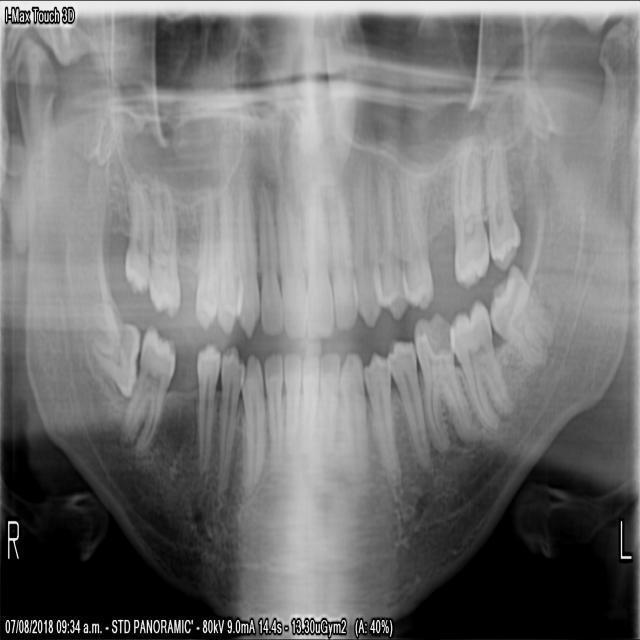LCD: (337, 342, 372, 483)
LCU: (347, 134, 383, 332)
LID: (316, 345, 339, 461), (298, 342, 318, 454)
LIU: (298, 162, 336, 343), (325, 164, 360, 337)
LMD: (408, 299, 478, 463), (444, 290, 515, 434), (485, 253, 559, 370)
LMU: (446, 123, 492, 299), (479, 130, 523, 272)
LPMD: (384, 330, 431, 476), (359, 345, 403, 495)
LPMU: (367, 152, 410, 325), (391, 143, 434, 315)
RCD: (237, 347, 267, 505)
RCU: (232, 156, 260, 341)
RID: (261, 342, 284, 475), (279, 345, 303, 459)
RIU: (271, 169, 308, 343), (254, 168, 284, 342)
RMD: (114, 319, 179, 468), (82, 295, 142, 405)
RMU: (145, 160, 182, 324), (119, 163, 151, 300)
RPMD: (212, 335, 246, 499), (192, 337, 223, 489)
RPMU: (213, 168, 244, 339), (190, 169, 219, 336)
